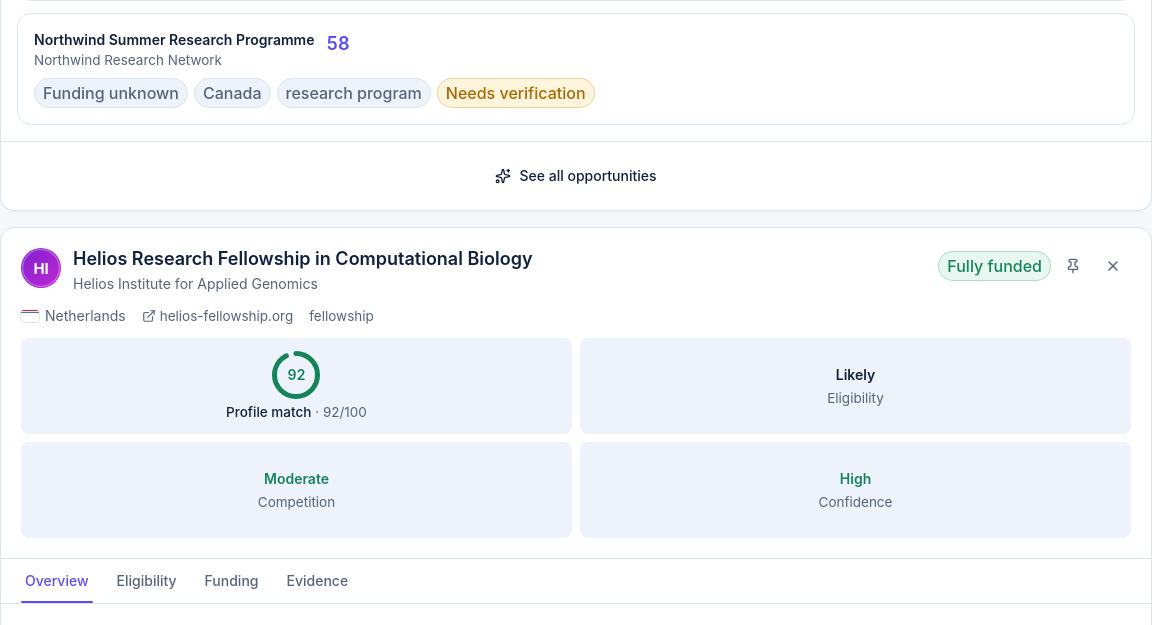
Test: HomePage › closes the panel on request and stays closed
(page scrolled)
Check: the heading "Helios Research Fellowship in Computational Biology" is shown, box [73,248,532,270]
Click the 2nd button named "Close the opportunity panel" at (1113, 266), box [1095,248,1131,284]
(page scrolled)
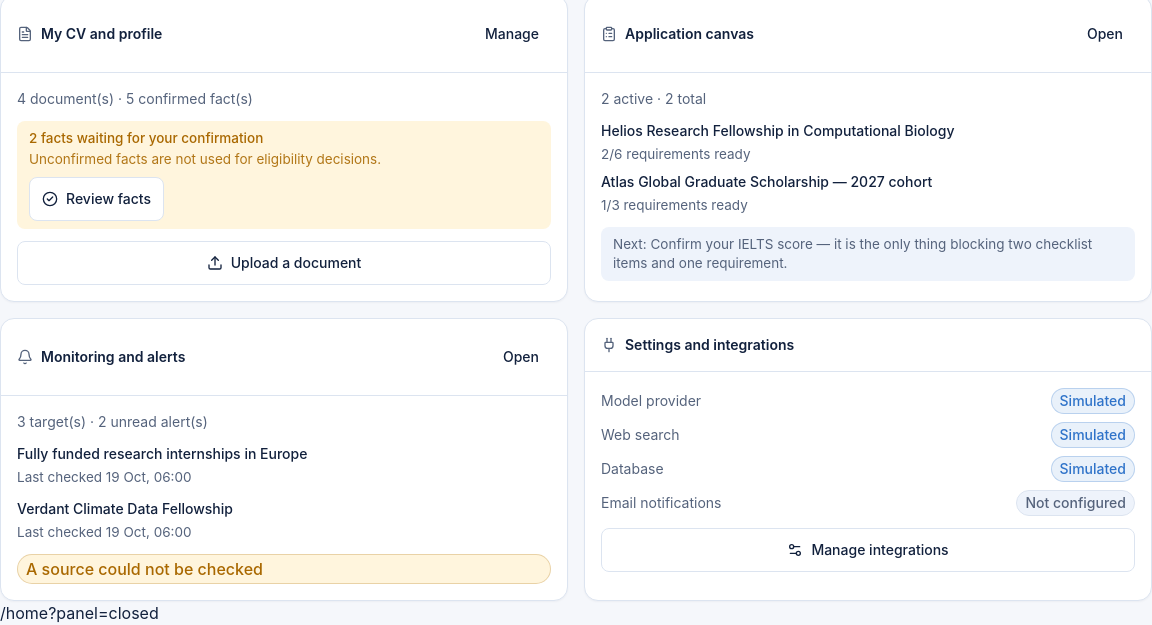
Check: the text with test id "location" shows "panel=closed", box [0,603,159,623]
